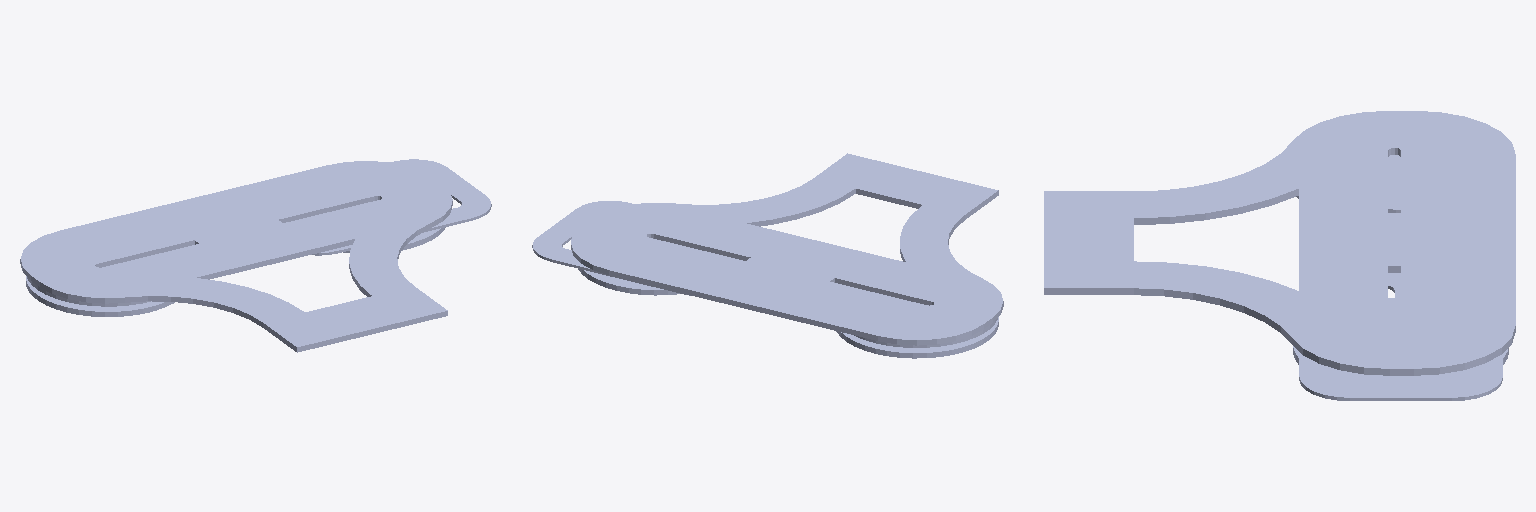
robot.urdf — metal_detector_support:
<robot
  name="metal_detector_support">
  <link
    name="metal_detector_support">
    <inertial>
      <origin
        xyz="0.0900141398194709 0.232179087240077 0.00300000000000006"
        rpy="0 0 0" />
      <mass
        value="0.618082547555731" />
      <inertia
        ixx="0.00615559634016673"
        ixy="3.11302812941868E-07"
        ixz="-4.3754562374128E-22"
        iyy="0.00893048991943517"
        iyz="2.15052000766473E-21"
        izz="0.0150823777643166" />
    </inertial>
    <visual>
      <origin
        xyz="0 0 0"
        rpy="0 0 0" />
      <geometry>
        <mesh
          filename="package://metal_detector_support/meshes/metal_detector_support.STL" />
      </geometry>
      <material
        name="">
        <color
          rgba="0.792156862745098 0.819607843137255 0.933333333333333 1" />
      </material>
    </visual>
    <collision>
      <origin
        xyz="0 0 0"
        rpy="0 0 0" />
      <geometry>
        <mesh
          filename="package://metal_detector_support/meshes/metal_detector_support.STL" />
      </geometry>
    </collision>
  </link>
  <link
    name="left_coil_support">
    <inertial>
      <origin
        xyz="-0.308179316749173 0.00299999999999995 0.000331486341720255"
        rpy="0 0 0" />
      <mass
        value="0.103021950407818" />
      <inertia
        ixx="0.00021662411696847"
        ixy="-1.18437463523487E-22"
        ixz="-2.06795153138257E-21"
        iyy="0.000432630102234494"
        iyz="2.90517047099652E-20"
        izz="0.000216624116968471" />
    </inertial>
    <visual>
      <origin
        xyz="0 0 0"
        rpy="0 0 0" />
      <geometry>
        <mesh
          filename="package://metal_detector_support/meshes/left_coil_support.STL" />
      </geometry>
      <material
        name="">
        <color
          rgba="0.792156862745098 0.819607843137255 0.933333333333333 1" />
      </material>
    </visual>
    <collision>
      <origin
        xyz="0 0 0"
        rpy="0 0 0" />
      <geometry>
        <mesh
          filename="package://metal_detector_support/meshes/left_coil_support.STL" />
      </geometry>
    </collision>
  </link>
  <joint
    name="left_coil_support_joint"
    type="fixed">
    <origin
      xyz="0.244299457058899 0.280105906574019 -0.00600000000000001"
      rpy="1.5707963267949 0 0" />
    <parent
      link="metal_detector_support" />
    <child
      link="left_coil_support" />
    <axis
      xyz="0 0 0" />
  </joint>
  <link
    name="left_coil">
    <inertial>
      <origin
        xyz="-0.308179316749173 -0.00900000000000012 0.000331486341720255"
        rpy="0 0 0" />
      <mass
        value="0.103021950407818" />
      <inertia
        ixx="0.00021662411696847"
        ixy="-1.18437463523487E-22"
        ixz="-2.8951321439356E-21"
        iyy="0.000432630102234494"
        iyz="2.90517047099652E-20"
        izz="0.000216624116968471" />
    </inertial>
    <visual>
      <origin
        xyz="0 0 0"
        rpy="0 0 0" />
      <geometry>
        <mesh
          filename="package://metal_detector_support/meshes/left_coil.STL" />
      </geometry>
      <material
        name="">
        <color
          rgba="0.792156862745098 0.819607843137255 0.933333333333333 1" />
      </material>
    </visual>
    <collision>
      <origin
        xyz="0 0 0"
        rpy="0 0 0" />
      <geometry>
        <mesh
          filename="package://metal_detector_support/meshes/left_coil.STL" />
      </geometry>
    </collision>
  </link>
  <joint
    name="left_coil_joint"
    type="continuous">
    <origin
      xyz="0 0 0"
      rpy="0 0 0" />
    <parent
      link="left_coil_support" />
    <child
      link="left_coil" />
    <axis
      xyz="0 -1 0" />
  </joint>
  <link
    name="right_coil_support">
    <inertial>
      <origin
        xyz="0 0.00300000000000006 -1.38777878078145E-17"
        rpy="0 0 0" />
      <mass
        value="0.103021950407818" />
      <inertia
        ixx="0.00021662411696847"
        ixy="-2.82357088244412E-22"
        ixz="8.27180612553028E-21"
        iyy="0.000432630102234494"
        iyz="2.89010199750452E-20"
        izz="0.000216624116968471" />
    </inertial>
    <visual>
      <origin
        xyz="0 0 0"
        rpy="0 0 0" />
      <geometry>
        <mesh
          filename="package://metal_detector_support/meshes/right_coil_support.STL" />
      </geometry>
      <material
        name="">
        <color
          rgba="0.792156862745098 0.819607843137255 0.933333333333333 1" />
      </material>
    </visual>
    <collision>
      <origin
        xyz="0 0 0"
        rpy="0 0 0" />
      <geometry>
        <mesh
          filename="package://metal_detector_support/meshes/right_coil_support.STL" />
      </geometry>
    </collision>
  </link>
  <joint
    name="right_coil_support_joint"
    type="fixed">
    <origin
      xyz="0.244299457058899 0.280105906574019 -0.00600000000000001"
      rpy="1.5707963267949 0 0" />
    <parent
      link="metal_detector_support" />
    <child
      link="right_coil_support" />
    <axis
      xyz="0 0 0" />
  </joint>
  <link
    name="right_coil">
    <inertial>
      <origin
        xyz="0 -0.00900000000000006 -5.55111512312578E-17"
        rpy="0 0 0" />
      <mass
        value="0.103021950407818" />
      <inertia
        ixx="0.00021662411696847"
        ixy="-2.37275744860272E-22"
        ixz="6.61744490042423E-21"
        iyy="0.000432630102234494"
        iyz="2.87889370020442E-20"
        izz="0.000216624116968471" />
    </inertial>
    <visual>
      <origin
        xyz="0 0 0"
        rpy="0 0 0" />
      <geometry>
        <mesh
          filename="package://metal_detector_support/meshes/right_coil.STL" />
      </geometry>
      <material
        name="">
        <color
          rgba="0.792156862745098 0.819607843137255 0.933333333333333 1" />
      </material>
    </visual>
    <collision>
      <origin
        xyz="0 0 0"
        rpy="0 0 0" />
      <geometry>
        <mesh
          filename="package://metal_detector_support/meshes/right_coil.STL" />
      </geometry>
    </collision>
  </link>
  <joint
    name="right_coil_joint"
    type="continuous">
    <origin
      xyz="0 0 0"
      rpy="0 0 0" />
    <parent
      link="right_coil_support" />
    <child
      link="right_coil" />
    <axis
      xyz="0 -1 0" />
  </joint>
</robot>

--- What the picture shows (computed from the rendered views, not written in the file) ---
Views: 3 orthographic renders of the robot side by side, from view 1: azimuth 30°, elevation 25°; view 2: azimuth 150°, elevation 25°; view 3: azimuth 270°, elevation 25°.
Robot: metal_detector_support — 5 links, 4 joints (2 continuous, 2 fixed); root link metal_detector_support; default pose: every joint at zero.
Links seen in each view (by area): view 1: metal_detector_support, right_coil_support, left_coil; view 2: metal_detector_support, right_coil_support, left_coil, right_coil; view 3: metal_detector_support, right_coil_support, right_coil, left_coil_support.
Link boxes in pixels (x1,y1,x2,y2): metal_detector_support: [20, 161, 452, 352]; right_coil_support: [312, 159, 491, 255]; left_coil: [26, 276, 174, 316]; metal_detector_support: [571, 153, 1003, 345]; right_coil_support: [532, 201, 690, 295]; left_coil: [836, 317, 998, 358]; right_coil: [578, 269, 679, 295]; metal_detector_support: [1044, 111, 1515, 375]; right_coil_support: [1299, 273, 1502, 400]; right_coil: [1293, 298, 1508, 381]; left_coil_support: [1388, 155, 1400, 212].
Size in the robot's own frame: 0.5143 by 0.37 by 0.024 metres.
Meshes: 5 distinct files referenced, 5 mesh visuals loaded (5 binary STL).